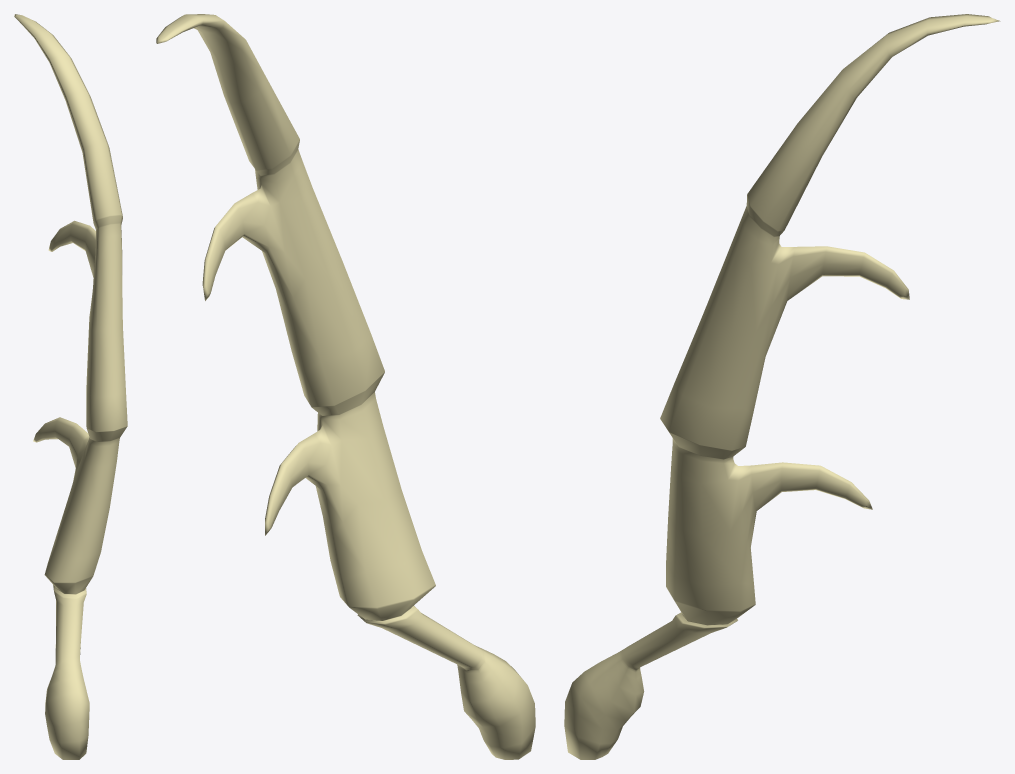
The model's file is Stag Antlers.fbx.
The picture shows the model from 3 angles, left to right: view 1: azimuth 30°, elevation 25°; view 2: azimuth 150°, elevation 25°; view 3: azimuth 270°, elevation 25°; orthographic projection. The views are drawn at different scales.
Parts seen in each view (by area): view 1: Stag Antlers - 0etsch; view 2: Stag Antlers - 0etsch; view 3: Stag Antlers - 0etsch.
Part boxes in pixels (x1,y1,x2,y2): Stag Antlers - 0etsch: (14,14,127,759); Stag Antlers - 0etsch: (156,14,535,759); Stag Antlers - 0etsch: (564,14,1000,759).
Size of the model in its own units: 43.61 by 182 by 90.11.
